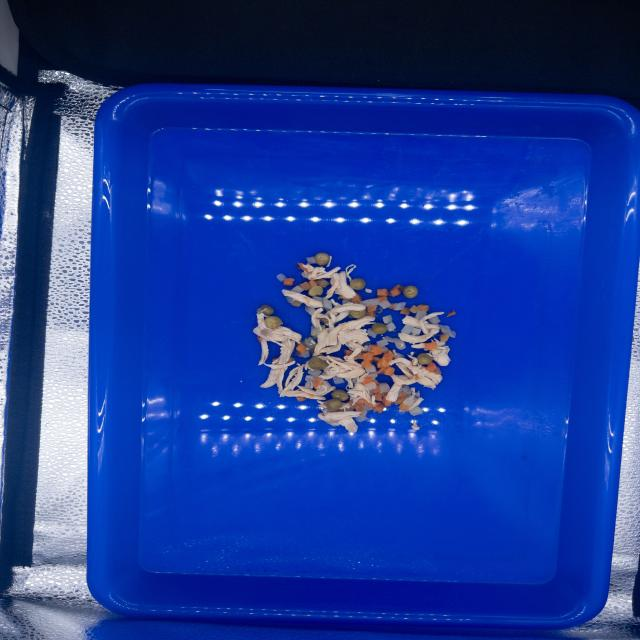Carrot: (373, 357, 395, 375), (365, 400, 385, 414), (372, 380, 382, 401), (362, 353, 373, 370), (394, 391, 407, 404), (298, 263, 312, 274), (350, 293, 362, 303), (383, 395, 393, 406), (370, 346, 382, 355), (390, 288, 401, 297), (377, 288, 388, 297), (296, 344, 307, 353), (382, 353, 394, 361), (425, 343, 437, 351), (427, 362, 436, 372), (398, 404, 409, 412), (299, 282, 310, 290), (418, 304, 429, 312), (284, 278, 294, 286), (400, 308, 411, 315), (308, 280, 317, 288), (363, 377, 373, 384), (367, 305, 377, 312), (440, 334, 449, 341), (378, 297, 388, 303), (296, 397, 306, 402), (357, 398, 365, 404), (344, 350, 352, 356), (388, 304, 394, 310)
Chicken_Shred: (313, 316, 376, 356), (388, 352, 443, 390), (302, 263, 356, 299), (253, 308, 302, 347), (398, 312, 444, 344), (386, 363, 416, 402), (314, 347, 364, 370), (318, 409, 362, 433), (264, 339, 296, 369), (280, 363, 305, 398), (259, 366, 288, 394), (282, 289, 323, 308), (426, 338, 451, 366), (325, 299, 366, 316), (319, 360, 351, 380), (316, 311, 350, 326), (346, 385, 371, 405), (345, 373, 369, 391), (297, 385, 335, 396), (284, 390, 325, 400), (336, 368, 366, 379), (311, 307, 324, 330), (258, 338, 269, 365), (345, 264, 357, 282), (409, 397, 424, 410), (339, 402, 351, 411), (411, 343, 426, 349), (409, 387, 416, 399), (317, 400, 327, 408), (326, 256, 332, 267), (347, 266, 354, 272), (371, 395, 375, 405)
Peas: (323, 398, 342, 411), (308, 357, 325, 370), (264, 316, 282, 328), (403, 285, 418, 298), (350, 279, 366, 290), (371, 323, 387, 334), (332, 390, 348, 401), (417, 353, 433, 364), (315, 253, 329, 265), (350, 309, 366, 319), (260, 305, 274, 316), (309, 285, 323, 296)
Potato_White: (356, 405, 374, 422), (314, 296, 333, 310), (360, 298, 380, 307), (408, 406, 423, 416), (394, 338, 406, 350), (305, 375, 315, 389), (379, 300, 392, 309), (401, 325, 414, 334), (290, 285, 304, 293), (379, 383, 390, 393), (311, 324, 321, 335), (302, 272, 315, 280), (332, 376, 345, 384), (402, 398, 415, 406), (386, 322, 396, 332), (367, 328, 377, 338), (365, 365, 376, 374), (394, 302, 406, 310), (364, 382, 376, 390), (415, 311, 427, 319), (308, 370, 321, 377), (429, 316, 440, 324), (306, 306, 315, 315), (306, 256, 316, 264), (411, 328, 422, 335), (277, 274, 286, 282), (383, 315, 392, 323), (377, 340, 388, 346), (385, 336, 394, 343), (301, 351, 310, 358), (394, 353, 404, 358), (381, 346, 388, 353), (261, 330, 268, 336), (342, 300, 351, 304)
